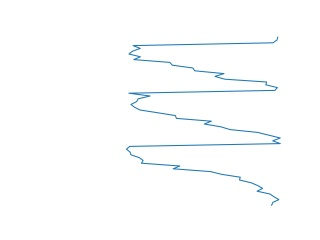distributaryMouthBar: (124, 35, 286, 206)
